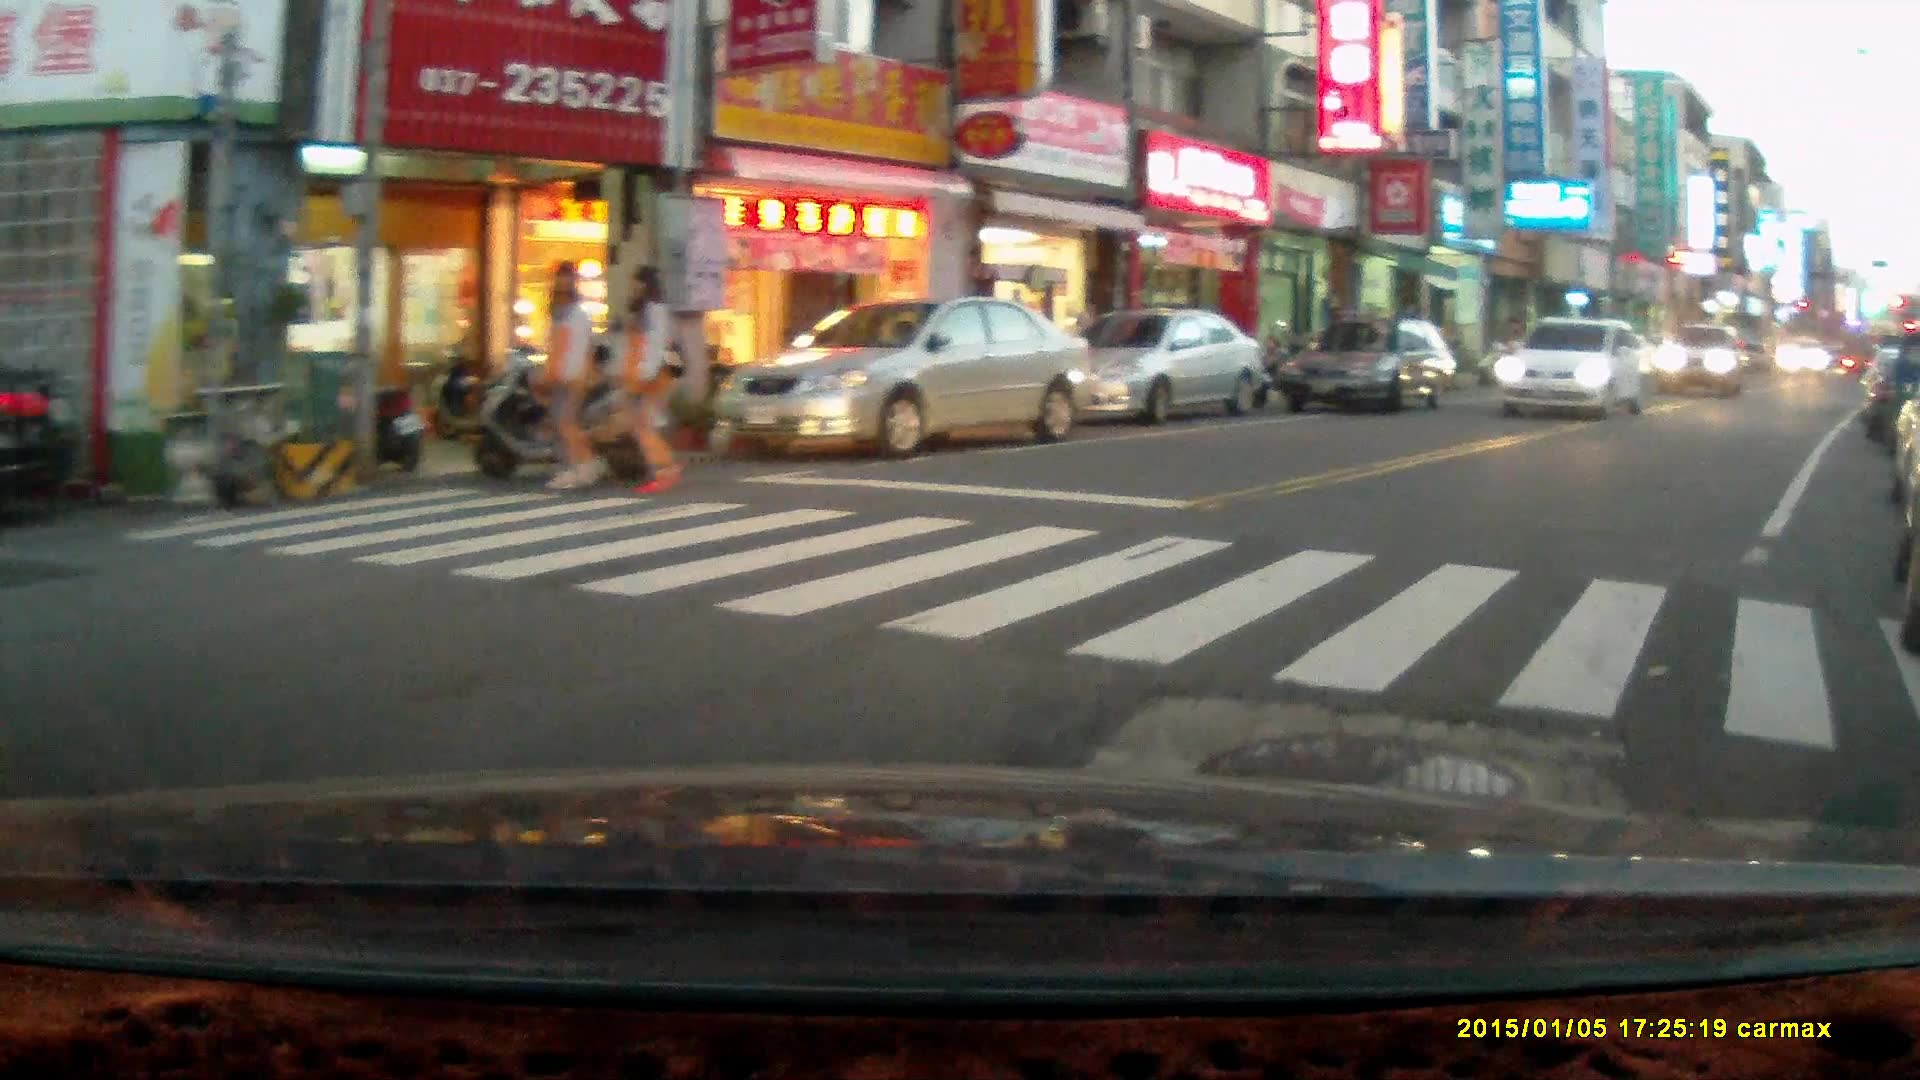pedestrian: (612, 260, 688, 498), (529, 259, 607, 490)
vehicle: (716, 297, 1095, 453), (1032, 309, 1267, 421), (1275, 318, 1462, 410), (1492, 316, 1651, 414), (1647, 321, 1756, 400), (1771, 333, 1832, 382)
